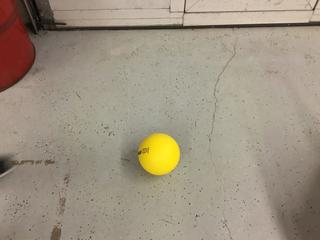power_cell: (136, 131, 182, 176)
